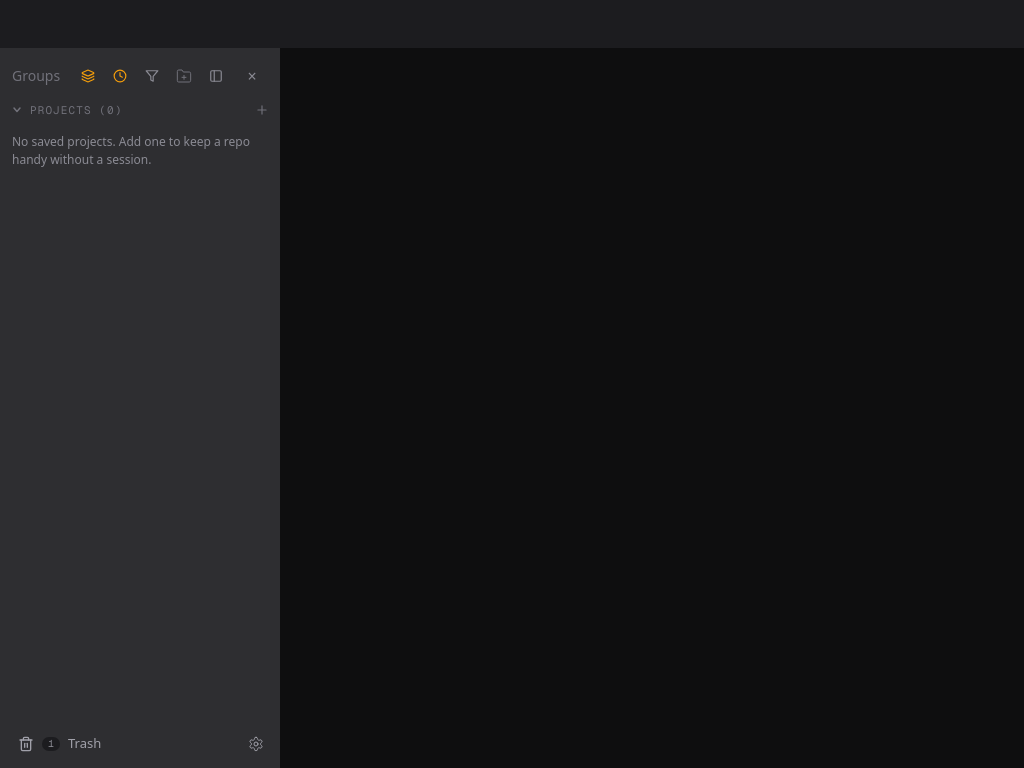
WorkspaceSidebar Trash control (#2489, #2512) › Escape on the Empty Trash confirm closes only the dialog, not the Trash panel (#3167)
Click the button with test id "sidebar-trash-toggle": [122, 744] box [8,728,236,760]
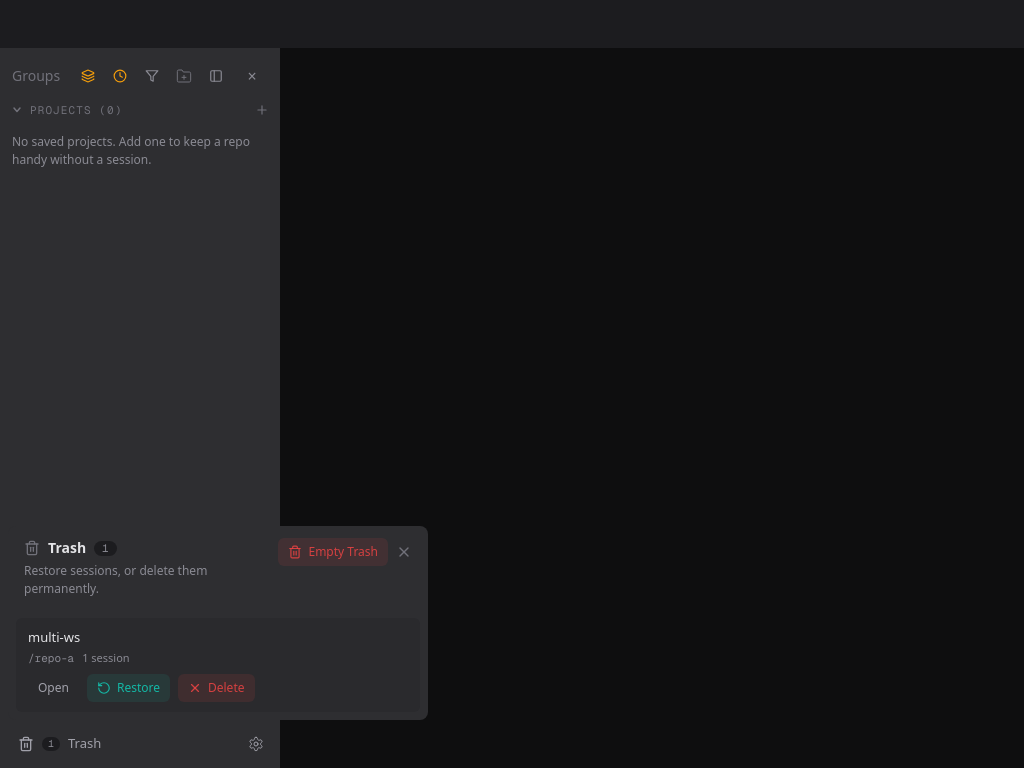
Click the button with test id "sidebar-trash-empty": [333, 552] box [278,538,388,566]
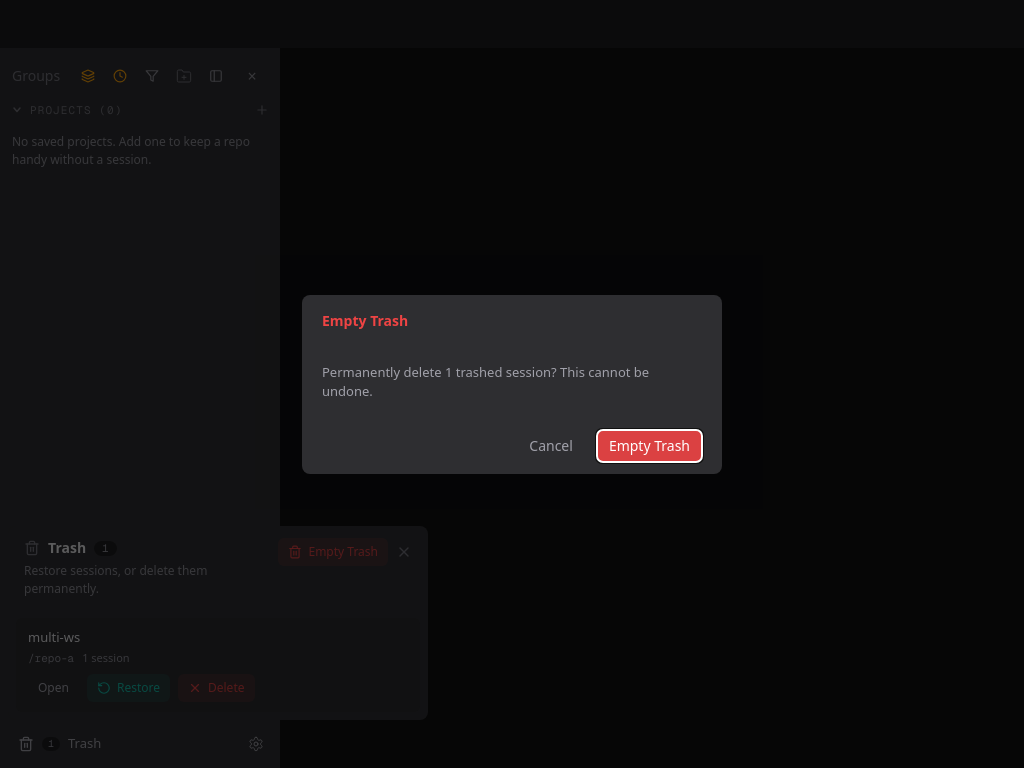
Check: the dialog with test id "empty-trash-dialog" is shown
Press Escape
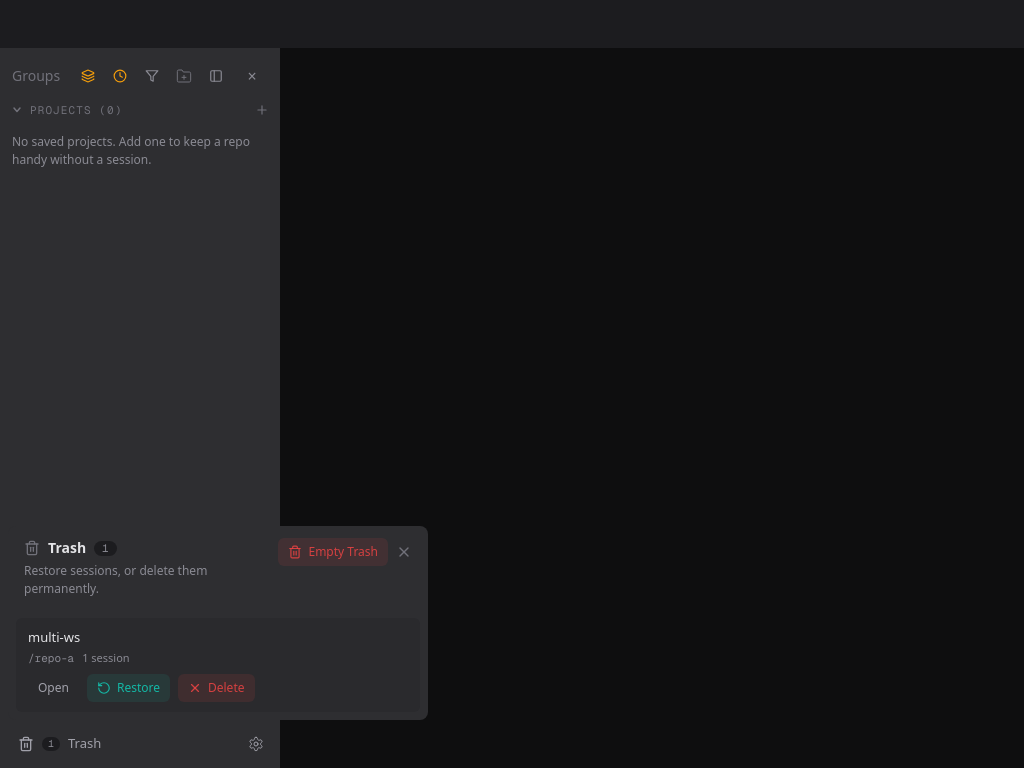
Check: the element with test id "sidebar-trash-menu" is shown, box [8,526,428,720]
Check: the dialog with test id "empty-trash-dialog" is gone
